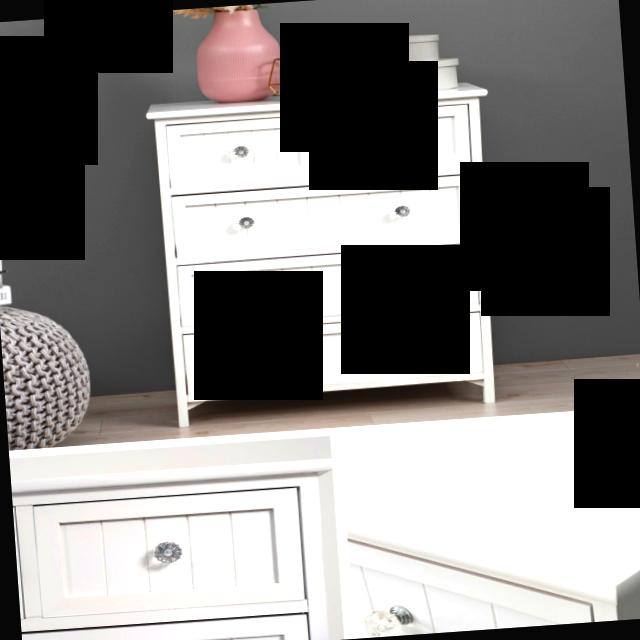white shelf: (126, 66, 516, 435)
